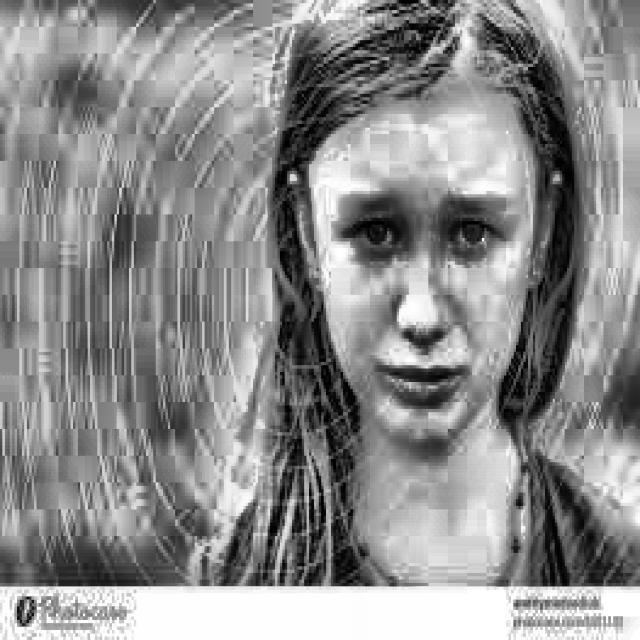sad: (263, 7, 581, 466)
